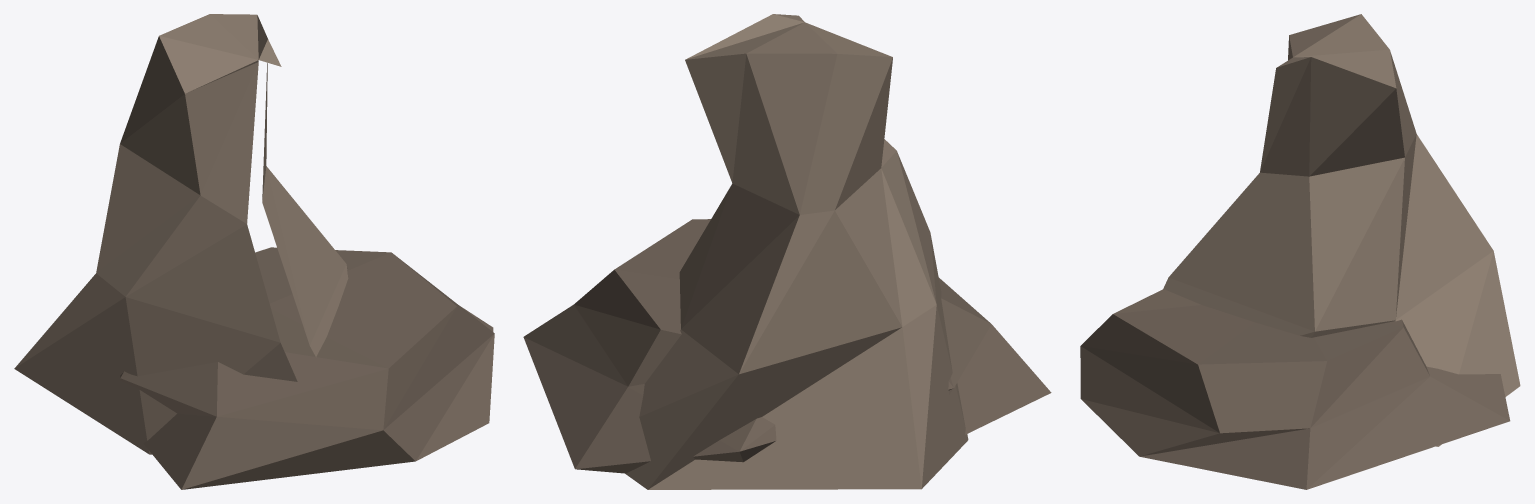
Rendered from cliff-crag.glb.
3 views of the same model, side by side, from view 1: azimuth 30°, elevation 25°; view 2: azimuth 150°, elevation 25°; view 3: azimuth 270°, elevation 25° (orthographic). The views are drawn at different scales.
Parts seen in each view (by area): view 1: rock, rockdark; view 2: rock, rockdark; view 3: rock, rockdark.
Part boxes in pixels (x1,y1,x2,y2): rock: (14,14,348,454); rockdark: (120,247,494,489); rock: (625,14,968,489); rockdark: (523,219,1051,473); rock: (1163,14,1520,446); rockdark: (1080,289,1510,489).
Size of the model in its own units: 7.2 by 6.04 by 6.86.
